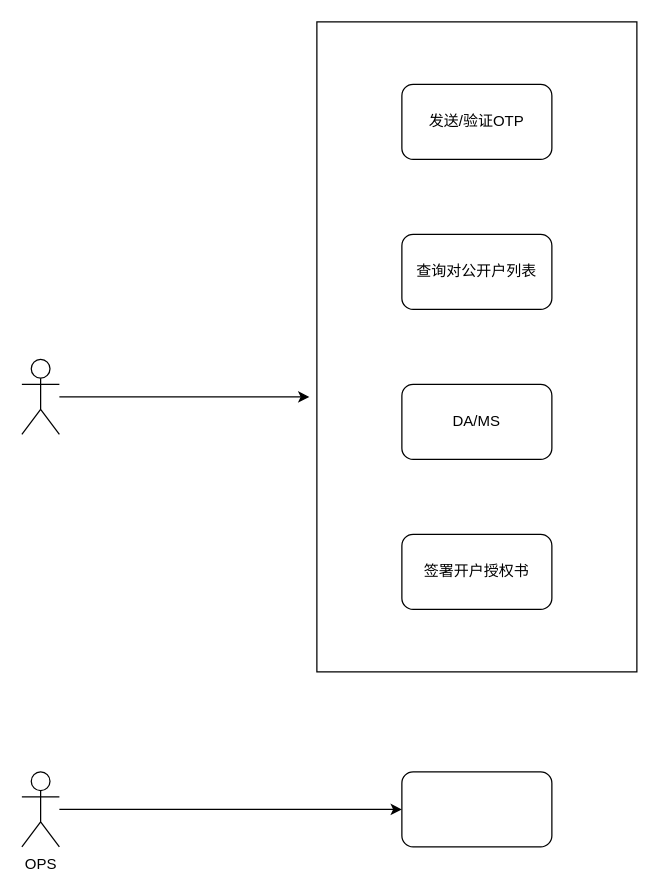
The diagram is 659 pixels wide and 895 high, and some of its shapes have lost their labels. Here are the shapes that lost their labels. From the top down, the box of each, then its label:
(21, 358, 59, 434): 用户
(401, 771, 552, 847): 审批QA单
